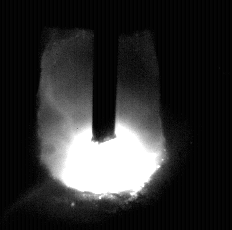arame: (92, 0, 117, 143)
poca: (40, 0, 167, 230)
